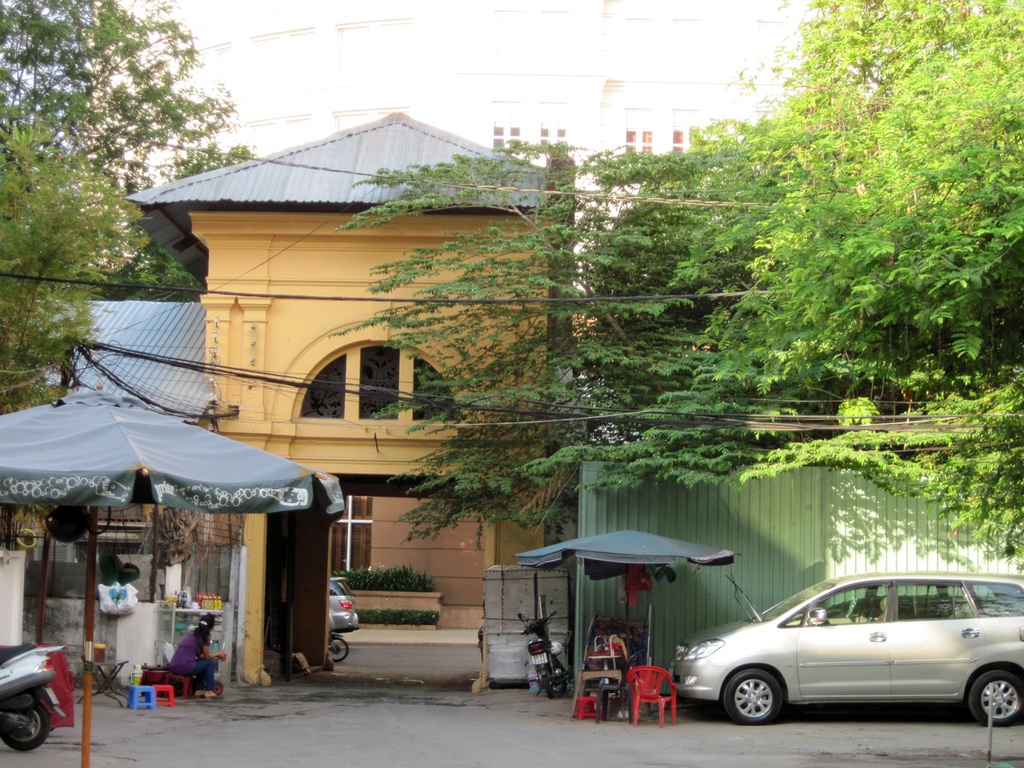Car: (679, 572, 1018, 732), (327, 578, 357, 634)
